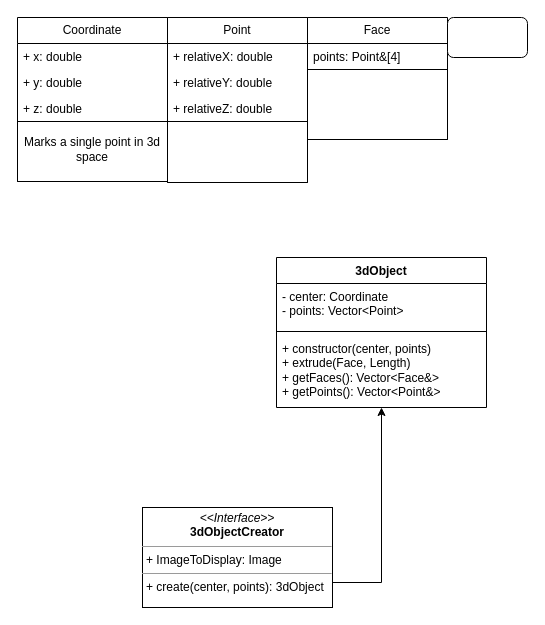
Some shapes in this 545 by 625 pixel diagram are drawn without their labels. The centre of each missing label's shape, as x and y in pixels:
"four Connected points will be a face" belongs at point (377, 104).
"Marks a point of a shape it is by *relative* coordinates" belongs at point (237, 151).
"Math :(" belongs at point (487, 37).
